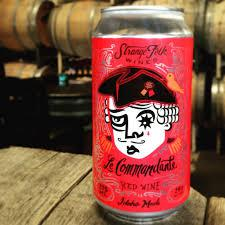beer: (90, 6, 194, 225)
